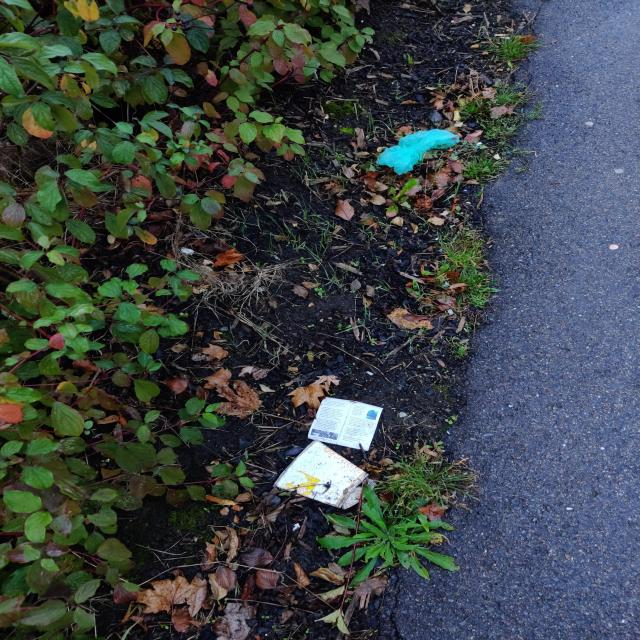litter: (272, 440, 374, 509), (306, 395, 385, 452), (375, 128, 465, 177), (490, 34, 509, 37)
